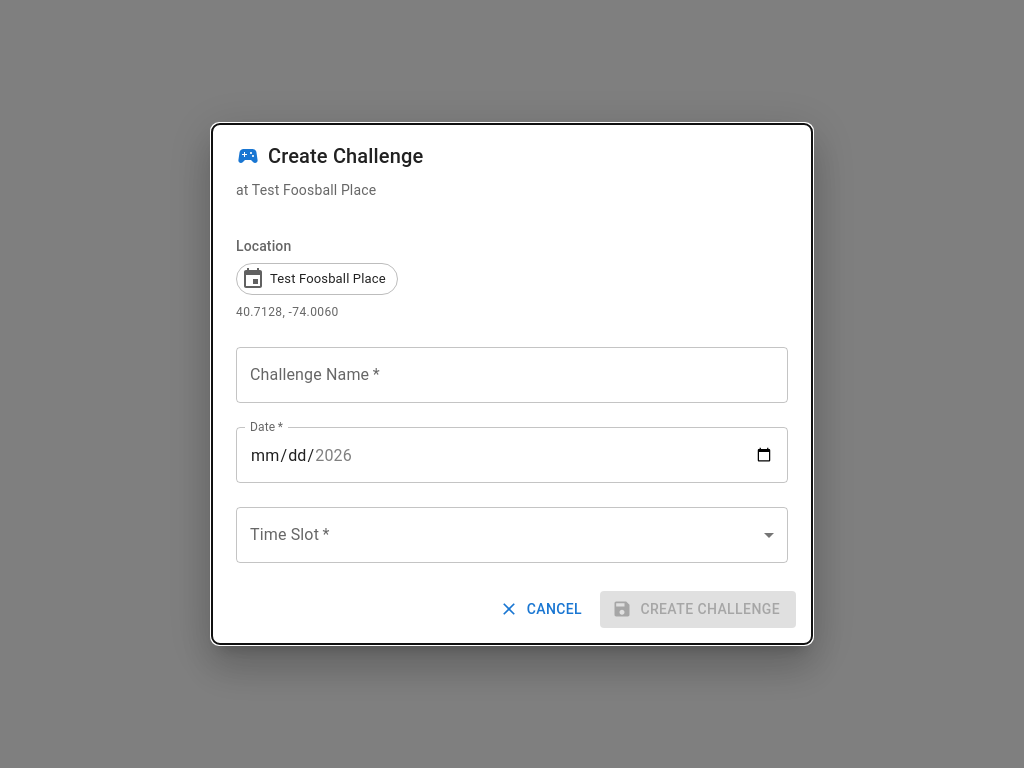
Test: ChallengeForm › Rendering › should render time slot options with descriptions
// Open time slot dropdown
What coordinates should you click on to do the following:
click the dropdown named "time slot"
I would click on:
 (512, 535)
Its box is top-left (236, 507), bottom-right (788, 563).
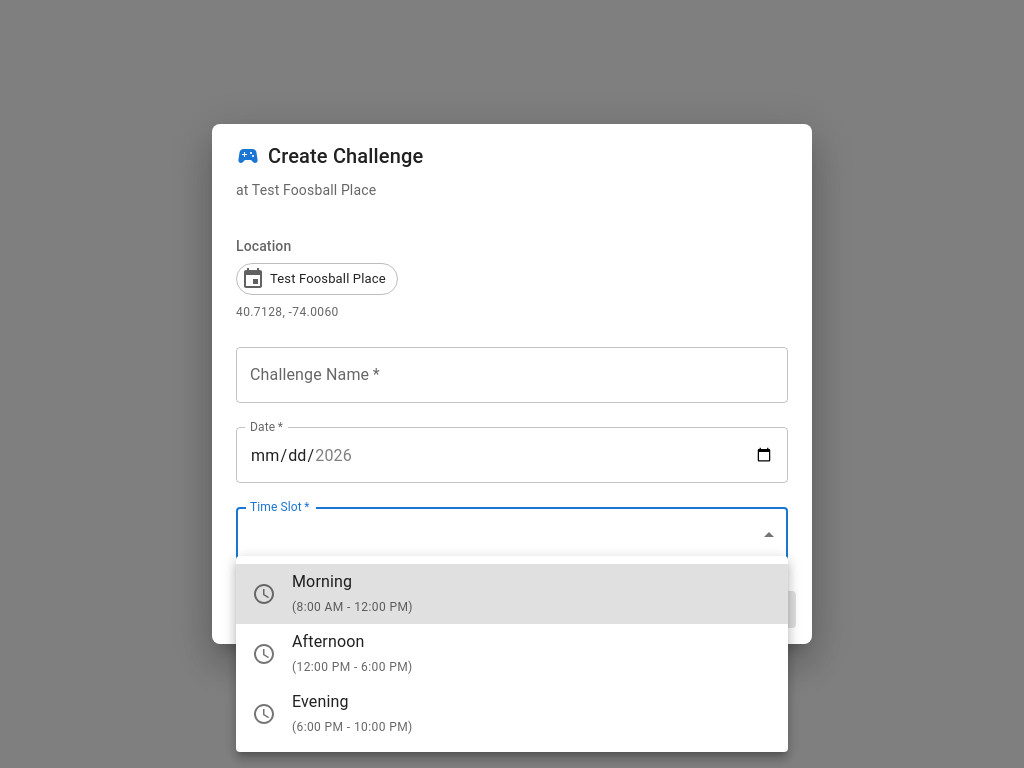
Now the text "Morning" is shown, box top-left (292, 572), bottom-right (352, 591)
Now the text "(8:00 AM - 12:00 PM)" is shown, box top-left (292, 600), bottom-right (413, 614)
Now the text "Afternoon" is shown, box top-left (292, 632), bottom-right (364, 651)
